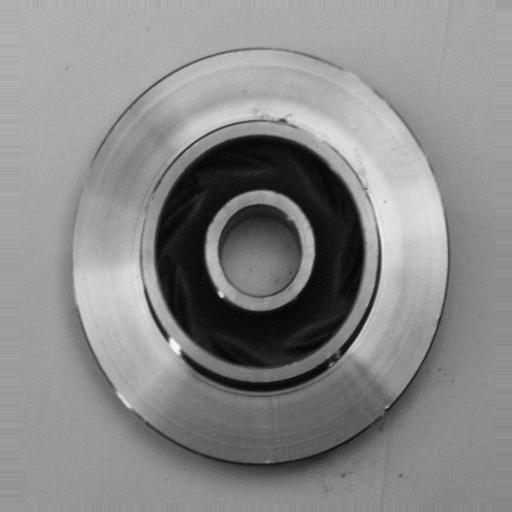scratch: (339, 130, 383, 213), (249, 102, 323, 137), (100, 375, 160, 418), (154, 326, 202, 372)
unpolished_casting: (72, 45, 451, 470)
